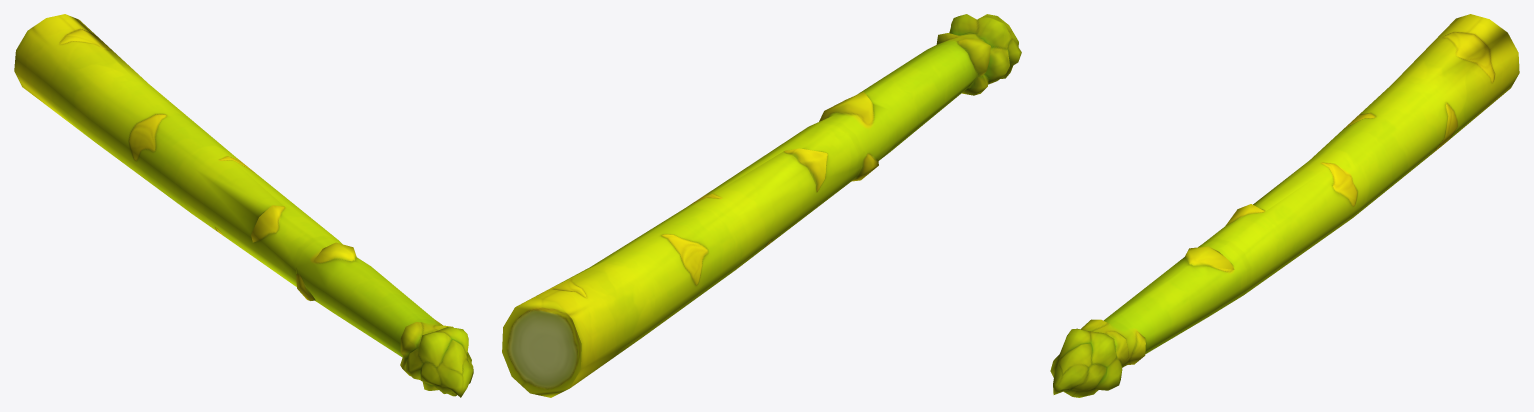
Rendered from Asparagus.fbx.
3 renders of one model, left to right at view 1: azimuth 30°, elevation 25°; view 2: azimuth 150°, elevation 25°; view 3: azimuth 330°, elevation 25°, orthographic. The views are drawn at different scales.
Visible parts, largest first — view 1: Asparagus; view 2: Asparagus; view 3: Asparagus.
Boxes of the visible parts, x1,y1,x2,y2 form: Asparagus: [14, 14, 473, 397]; Asparagus: [502, 14, 1021, 397]; Asparagus: [1050, 14, 1519, 397].
Bounding box in the file's own units: 0.9528 × 1.15 × 9.7.
